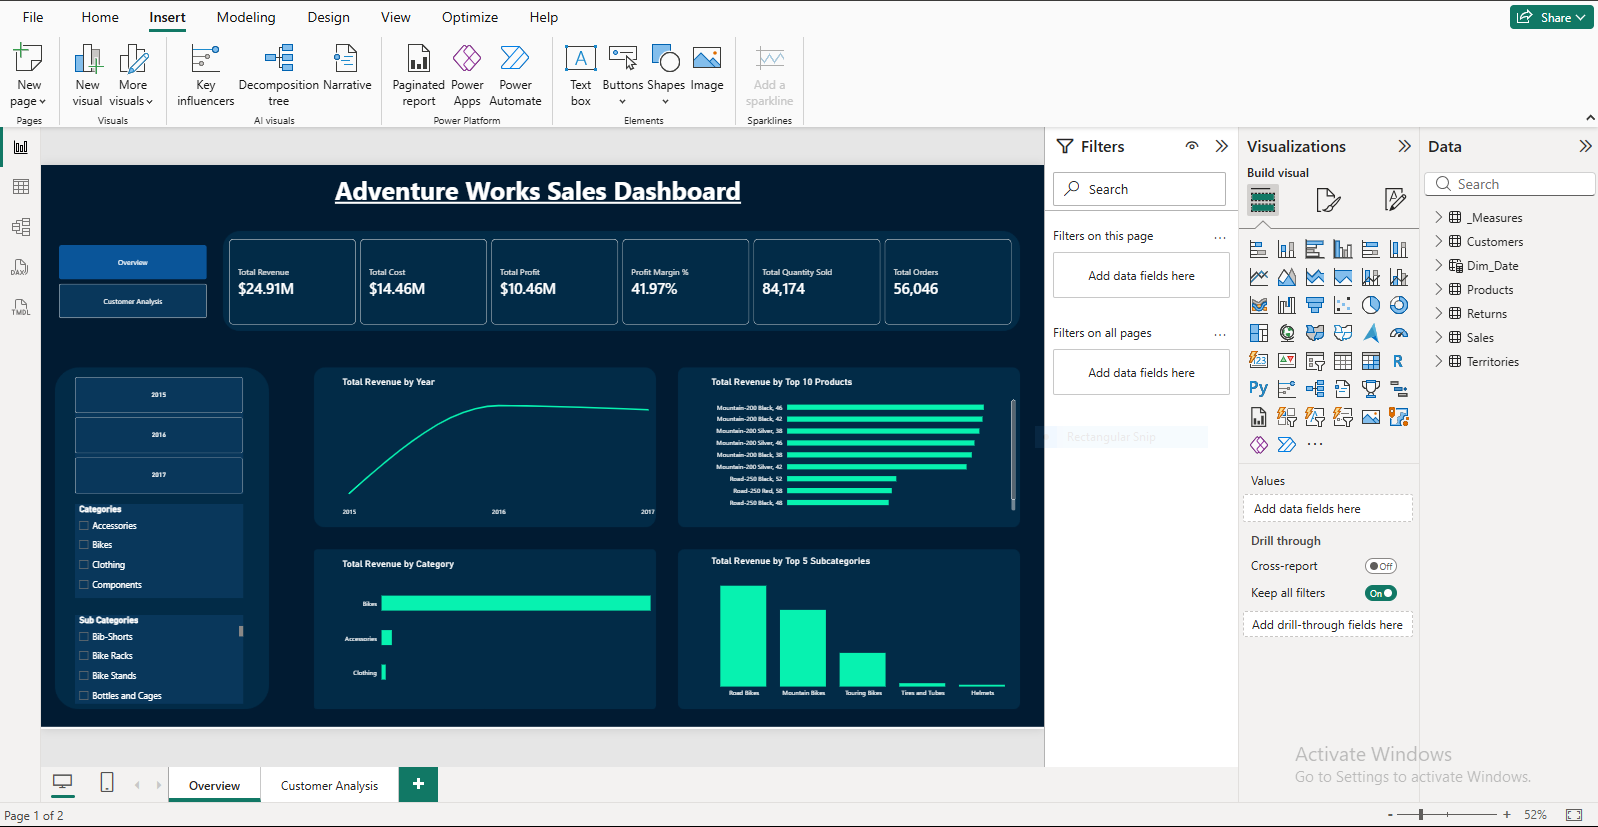

The dashboard page shown, as its layout file describes it:
{"tool":"powerbi","page":{"name":"Page 1","canvas":[1920,1080],"ordinal":0},"visuals":[{"type":"cardVisual","fields":{"Data":["_Measures.Total Revenue","_Measures.Total Cost","_Measures.Total Profit","_Measures.Profit Margin %","_Measures.Total Quantity Sold","_Measures.Total Orders"]},"box":[359.9,141.7,1500.8,164.6],"z":0},{"type":"lineChart","fields":{"Category":["Dim_Date.Year"],"Y":["_Measures.Total Revenue"]},"box":[560.9,390.5,629.8,302.5],"z":1},{"type":"clusteredBarChart","title":"Total Revenue by Category","fields":{"Category":["Products.CategoryName"],"Y":["_Measures.Total Revenue"]},"box":[560.9,738.9,629.8,292.9],"z":2},{"type":"clusteredBarChart","title":"Total Revenue by Top 10 Products","fields":{"Category":["Products.ProductName"],"Y":["_Measures.Total Revenue"]},"box":[1267.2,390.5,614.5,287.1],"z":3},{"type":"clusteredColumnChart","title":"Total Revenue by Top 5 Subcategories","fields":{"Category":["Products.SubcategoryName"],"Y":["_Measures.Total Revenue"]},"box":[1267.2,733.2,614.5,306.3],"z":4},{"type":"advancedSlicerVisual","fields":{"Values":["Dim_Date.Year"]},"box":[65.1,405.8,321.6,224],"z":5},{"type":"slicer","fields":{"Values":["Products.CategoryName"]},"box":[65.1,648.9,321.6,179.9],"z":6},{"type":"slicer","fields":{"Values":["Products.SubcategoryName"]},"box":[65.1,861.4,321.6,170.4],"z":7},{"type":"textbox","box":[0,15.3,1902.8,80.4],"z":8}]}

Visuals, with their boxes on the page's 1920x1080 design canvas (x1, y1, x2, y2). These are canvas units, not pixel positions in the 1598x827 screenshot, which may show the page scaled, cropped or inside an application window:
cardVisual - _Measures.Total Revenue x _Measures.Total Cost: <bbox>360, 142, 1861, 306</bbox>
lineChart - Dim_Date.Year x _Measures.Total Revenue: <bbox>561, 390, 1191, 693</bbox>
"Total Revenue by Category" clusteredBarChart: <bbox>561, 739, 1191, 1032</bbox>
"Total Revenue by Top 10 Products" clusteredBarChart: <bbox>1267, 390, 1882, 678</bbox>
"Total Revenue by Top 5 Subcategories" clusteredColumnChart: <bbox>1267, 733, 1882, 1040</bbox>
advancedSlicerVisual - Dim_Date.Year: <bbox>65, 406, 387, 630</bbox>
slicer - Products.CategoryName: <bbox>65, 649, 387, 829</bbox>
slicer - Products.SubcategoryName: <bbox>65, 861, 387, 1032</bbox>
textbox: <bbox>0, 15, 1903, 96</bbox>
